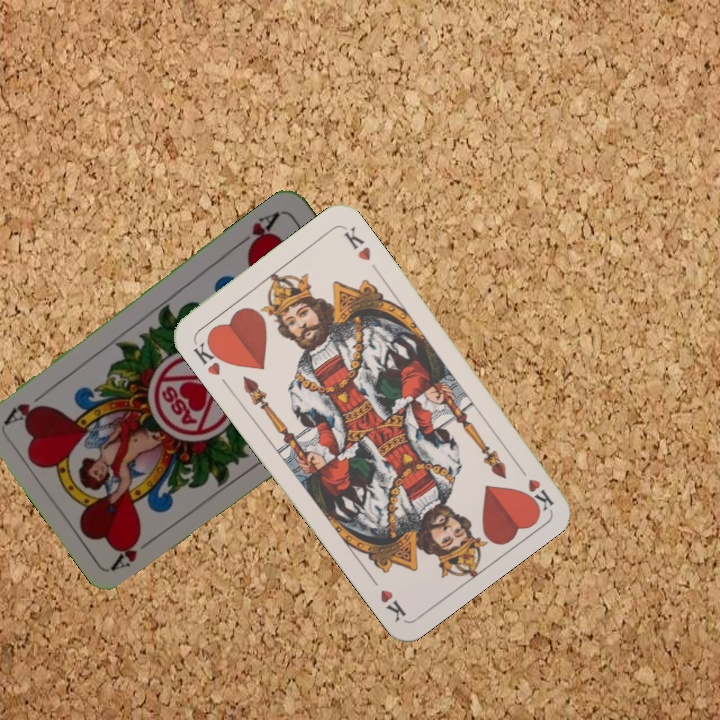HA: (234, 207, 283, 255), (109, 530, 160, 573)
HK: (512, 459, 557, 513), (189, 334, 229, 378)
